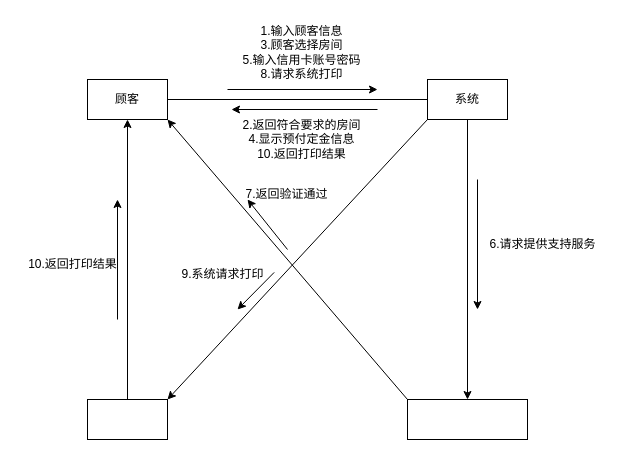
Image size: 624x457. Some labels were removed from this diagram. The centre of each missing label's shape, as x and y in pixels:
打印: [127,419]
银行信用卡系统: [467,419]
